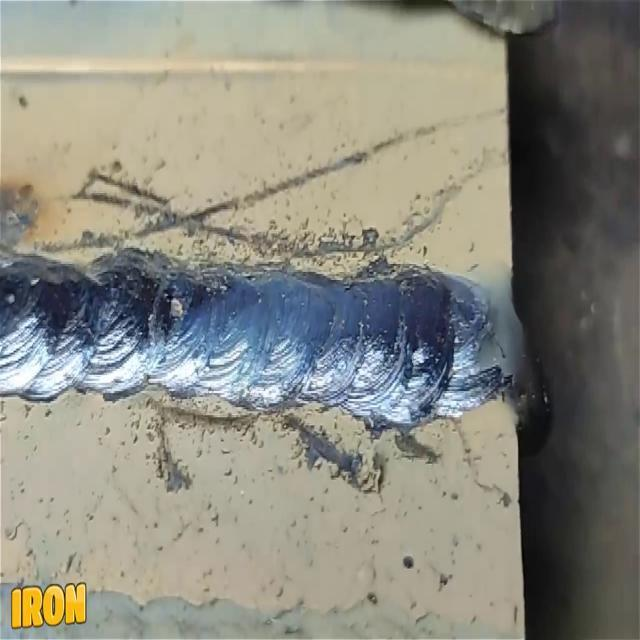Good Welding: (170, 298, 184, 318)
